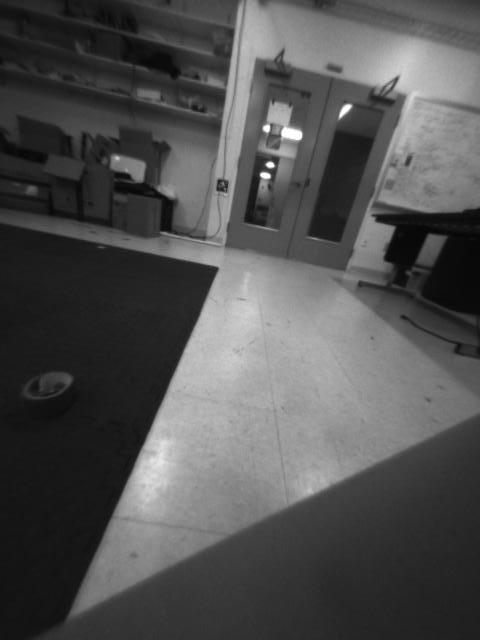dogtoy: (9, 358, 79, 414)
